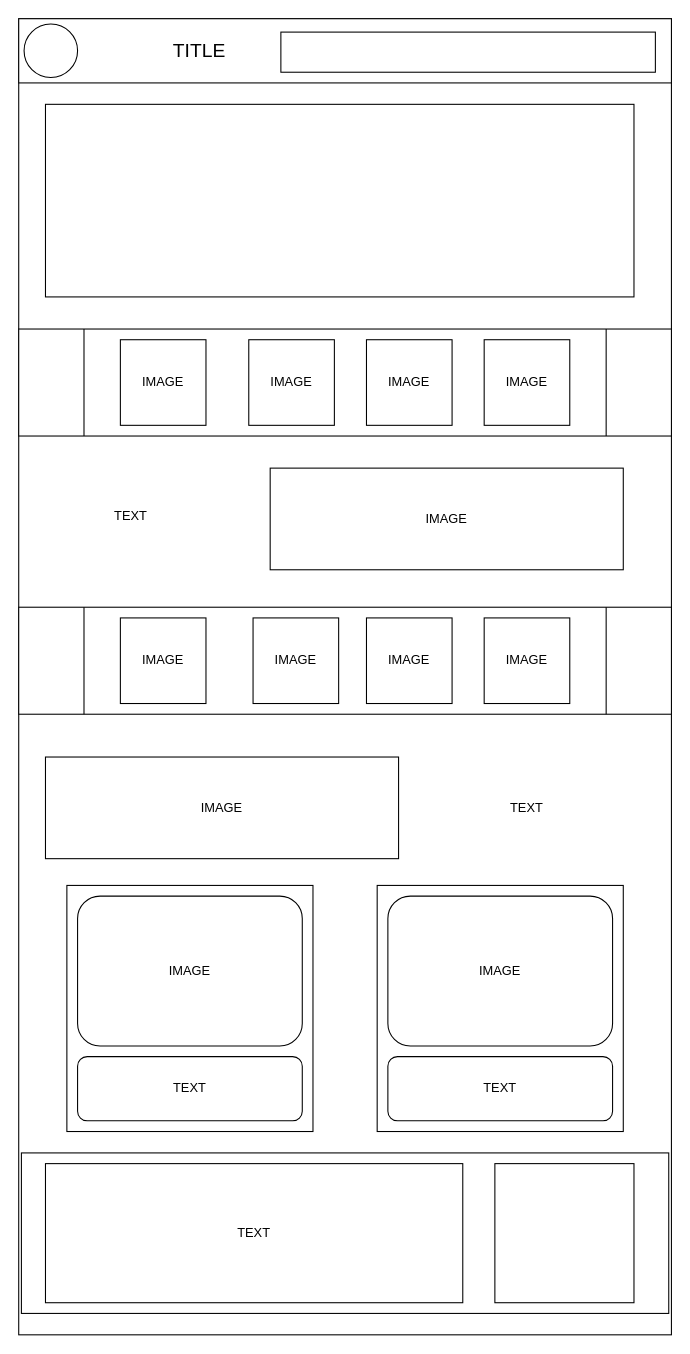
This 690x1354 diagram has some shape labels left out. Each missing label, with the centre of its shape:
"CAROUSEL" goes at pixel 339 200.
"LOGO" goes at pixel 50 50.
"MAP" goes at pixel 564 1233.
"NAVIGATION BAR" goes at pixel 467 51.
